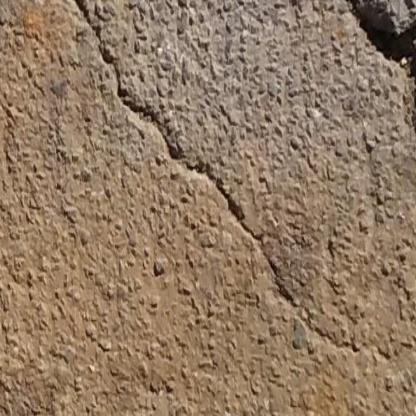Cracks: (60, 0, 300, 313), (340, 0, 416, 218)
